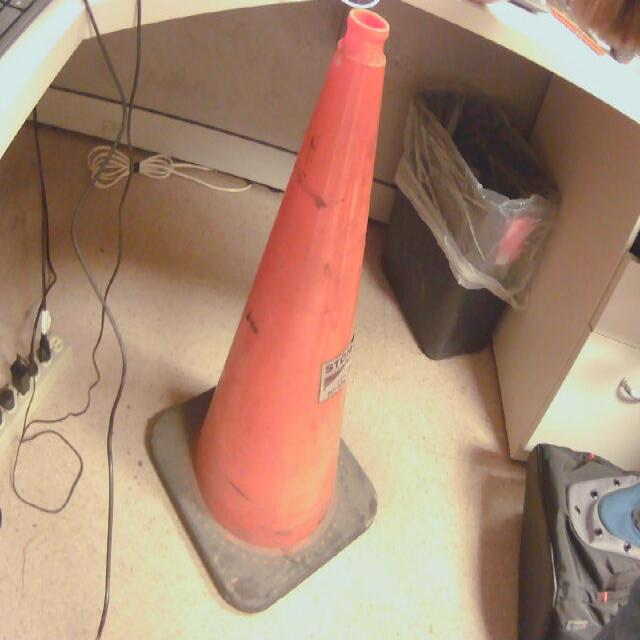traffic cone: (145, 9, 392, 616)
